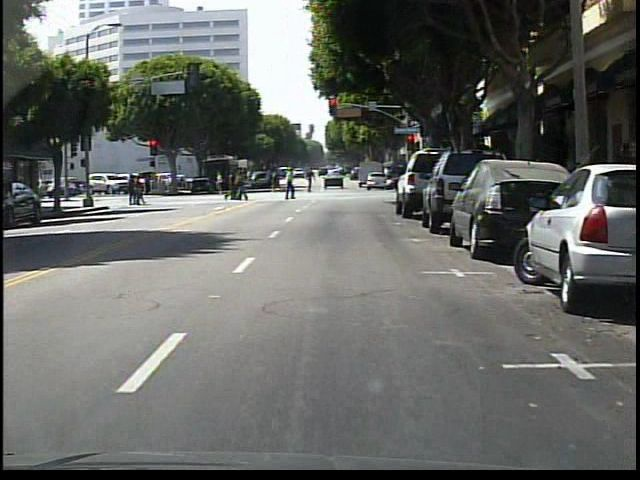person: (278, 166, 299, 204), (300, 167, 319, 196)
